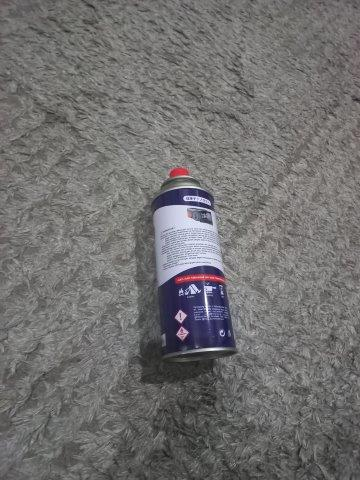kaleng: (151, 166, 241, 363)
